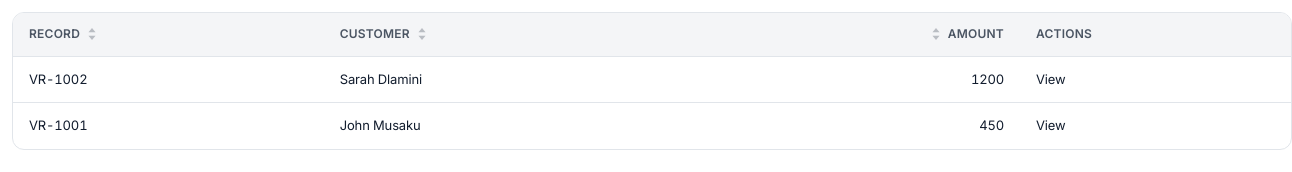
Test case: DataTable loading skeleton and sorting headers › toggles aria-sort, visual up/down arrows, accessible labels, and row order on DataTable
The image size is (1292, 172).
Step 1. Click the button "Record" → coordinates (55, 34), box [13,13,324,56]
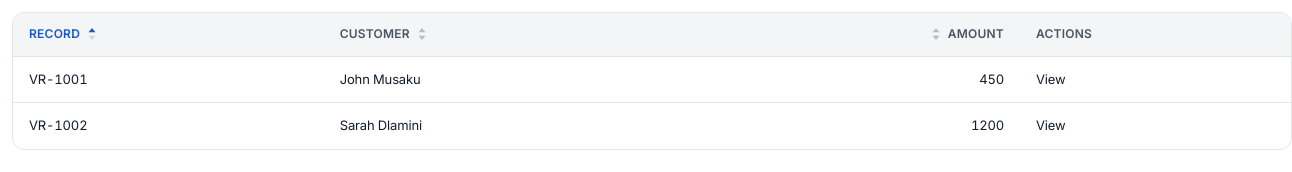
expect the column heading "Record" has attribute aria-sort="ascending": met
expect the 1st element with class "table-sort-indicator" has attribute data-sort-direction="asc": met, box [87,27,97,41]
Step 2. Click the button "Record" → coordinates (55, 34), box [13,13,324,56]
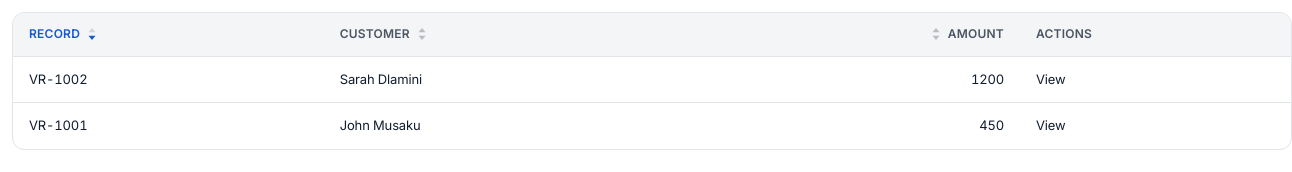
expect the column heading "Record" has attribute aria-sort="descending": met
expect the 1st element with class "table-sort-indicator" has attribute data-sort-direction="desc": met, box [87,27,97,41]
Step 3. Click the button "Record" → coordinates (55, 34), box [13,13,324,56]
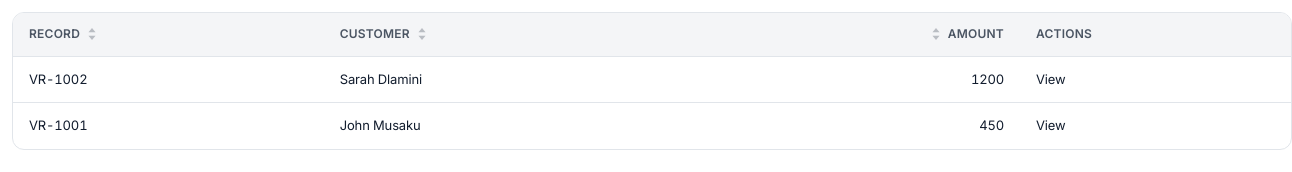
expect the column heading "Record" has attribute aria-sort="none": met, box [13,13,324,56]
expect the 1st element with class "table-sort-indicator" has attribute data-sort-direction="none": met, box [87,27,97,41]
